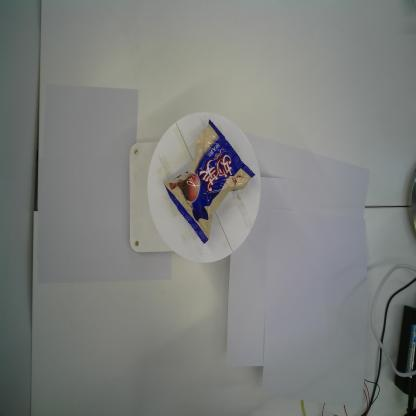Dessert: (164, 118, 256, 244)
